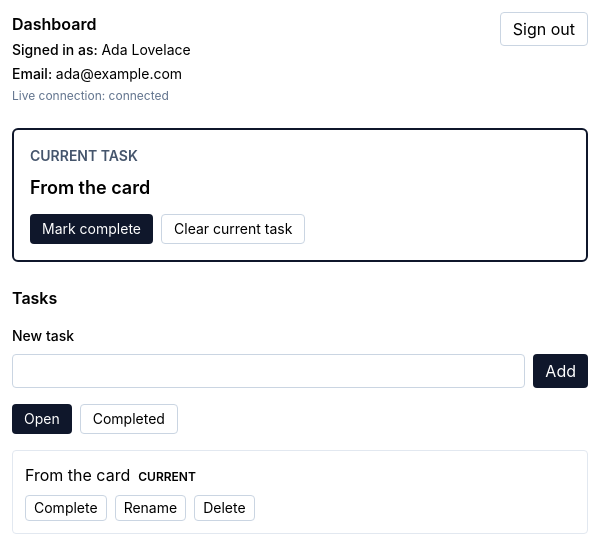
dashboard tasks › marks the current task complete from the current-task card
The width and height of the screenshot is (605, 551).
Click the button "Mark complete" at (92, 229), box [30, 214, 153, 244]
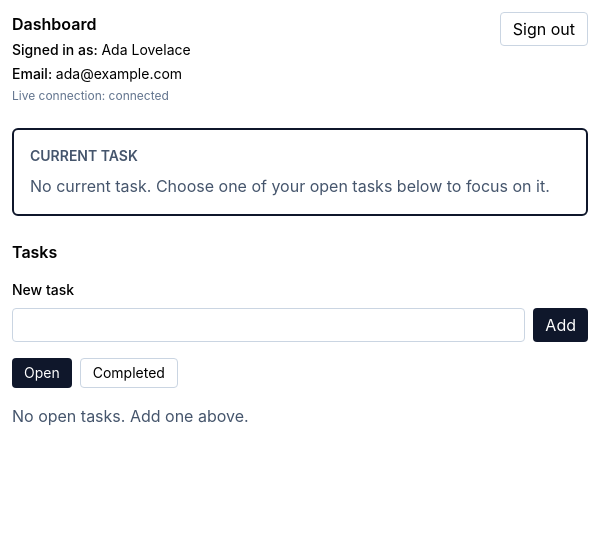
Check: the text "No current task" is shown, box [30, 176, 550, 196]
